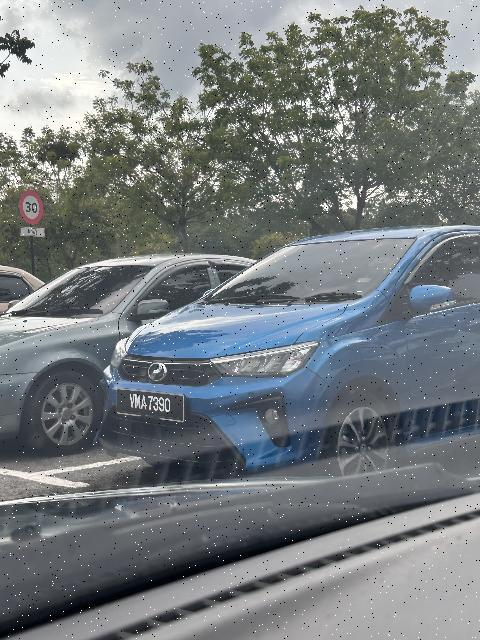License_Plate: (115, 389, 188, 428)
VMA7390: (115, 389, 188, 428)
car: (94, 215, 480, 491), (2, 244, 279, 464)
